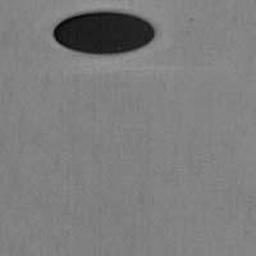Punching: (53, 12, 155, 55)
